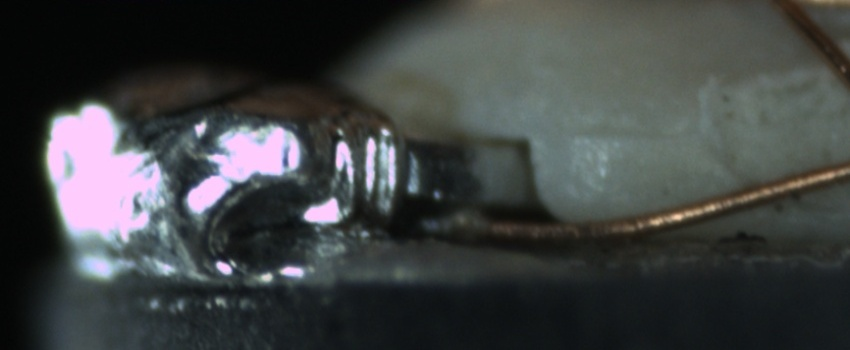DL: (551, 97, 701, 159)
